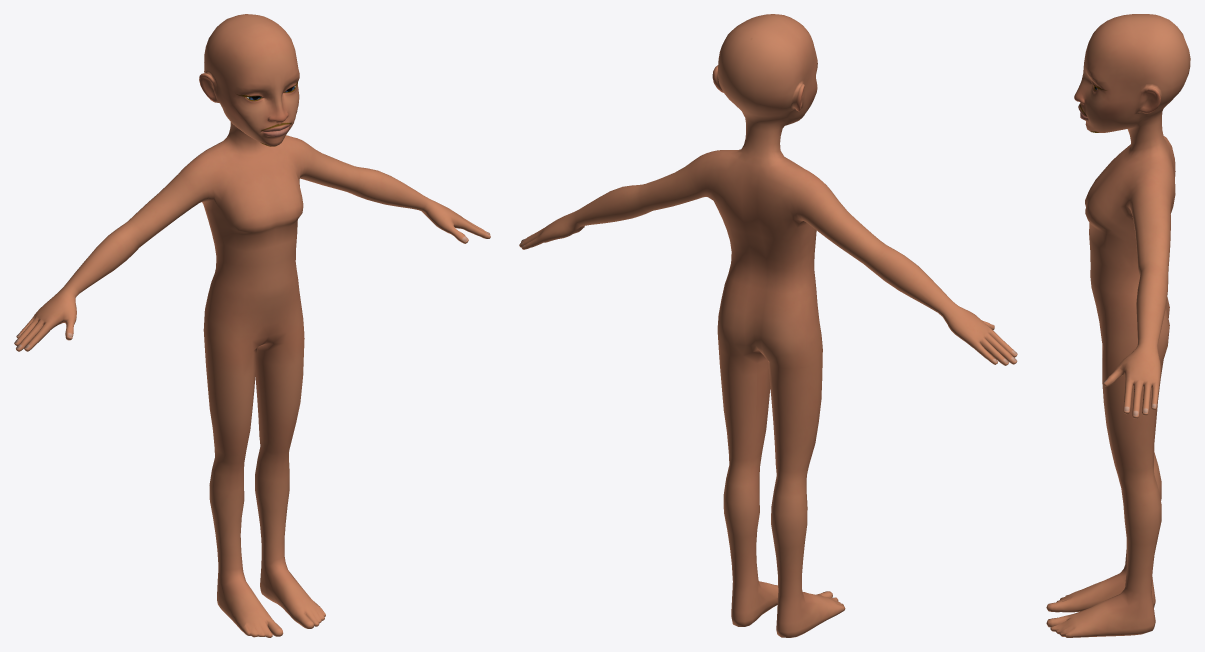
The model's file is frame_0019.glb.
3 renders of one model, left to right at view 1: azimuth 30°, elevation 25°; view 2: azimuth 150°, elevation 25°; view 3: azimuth 270°, elevation 25°, orthographic. The views are drawn at different scales.
Visible parts, largest first — view 1: frame_0019_head_geo; view 2: frame_0019_head_geo; view 3: frame_0019_head_geo.
Boxes of the visible parts, <box> form: frame_0019_head_geo: <box>14,14,490,637</box>; frame_0019_head_geo: <box>519,14,1017,637</box>; frame_0019_head_geo: <box>1046,14,1190,637</box>.
Size of the model in its own units: 1.28 by 1.5 by 0.3253.
3 materials, 3 textured.
